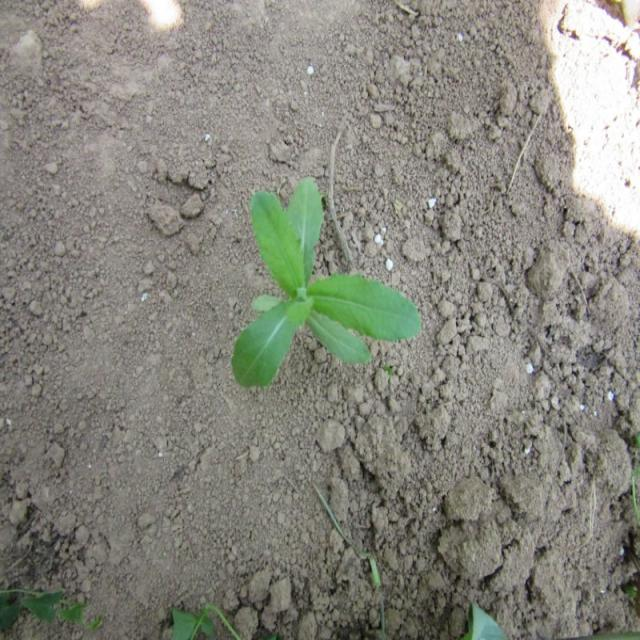field_thistle: (188, 172, 415, 378)
